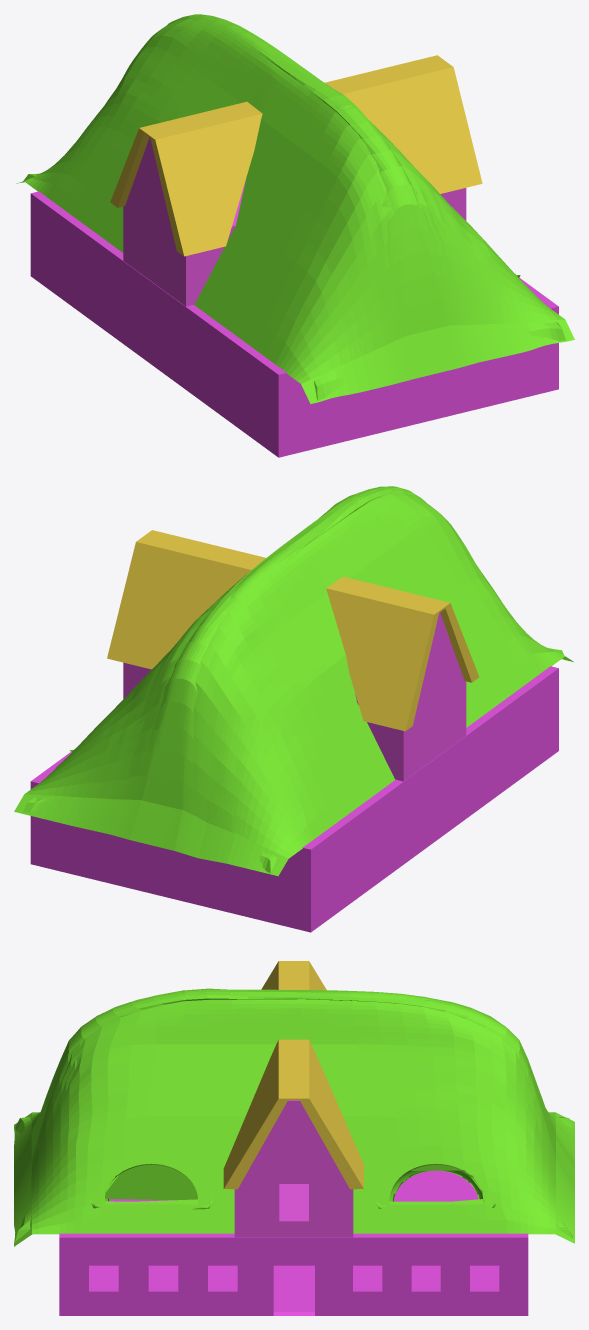
Rendered from NordseeHausStrohdachGroß.fbx.
3 views of the same model, one above another, from view 1: azimuth 30°, elevation 25°; view 2: azimuth 150°, elevation 25°; view 3: azimuth 270°, elevation 25° (orthographic). The views are drawn at different scales.
Parts seen in each view (by area): view 1: Cube; view 2: Cube; view 3: Cube.
Boxes of the visible parts, x1,y1,x2,y2 form: Cube: (16,14,574,457); Cube: (14,486,573,932); Cube: (14,961,574,1315).
Size of the model in its own units: 1826 by 1588 by 3143.
